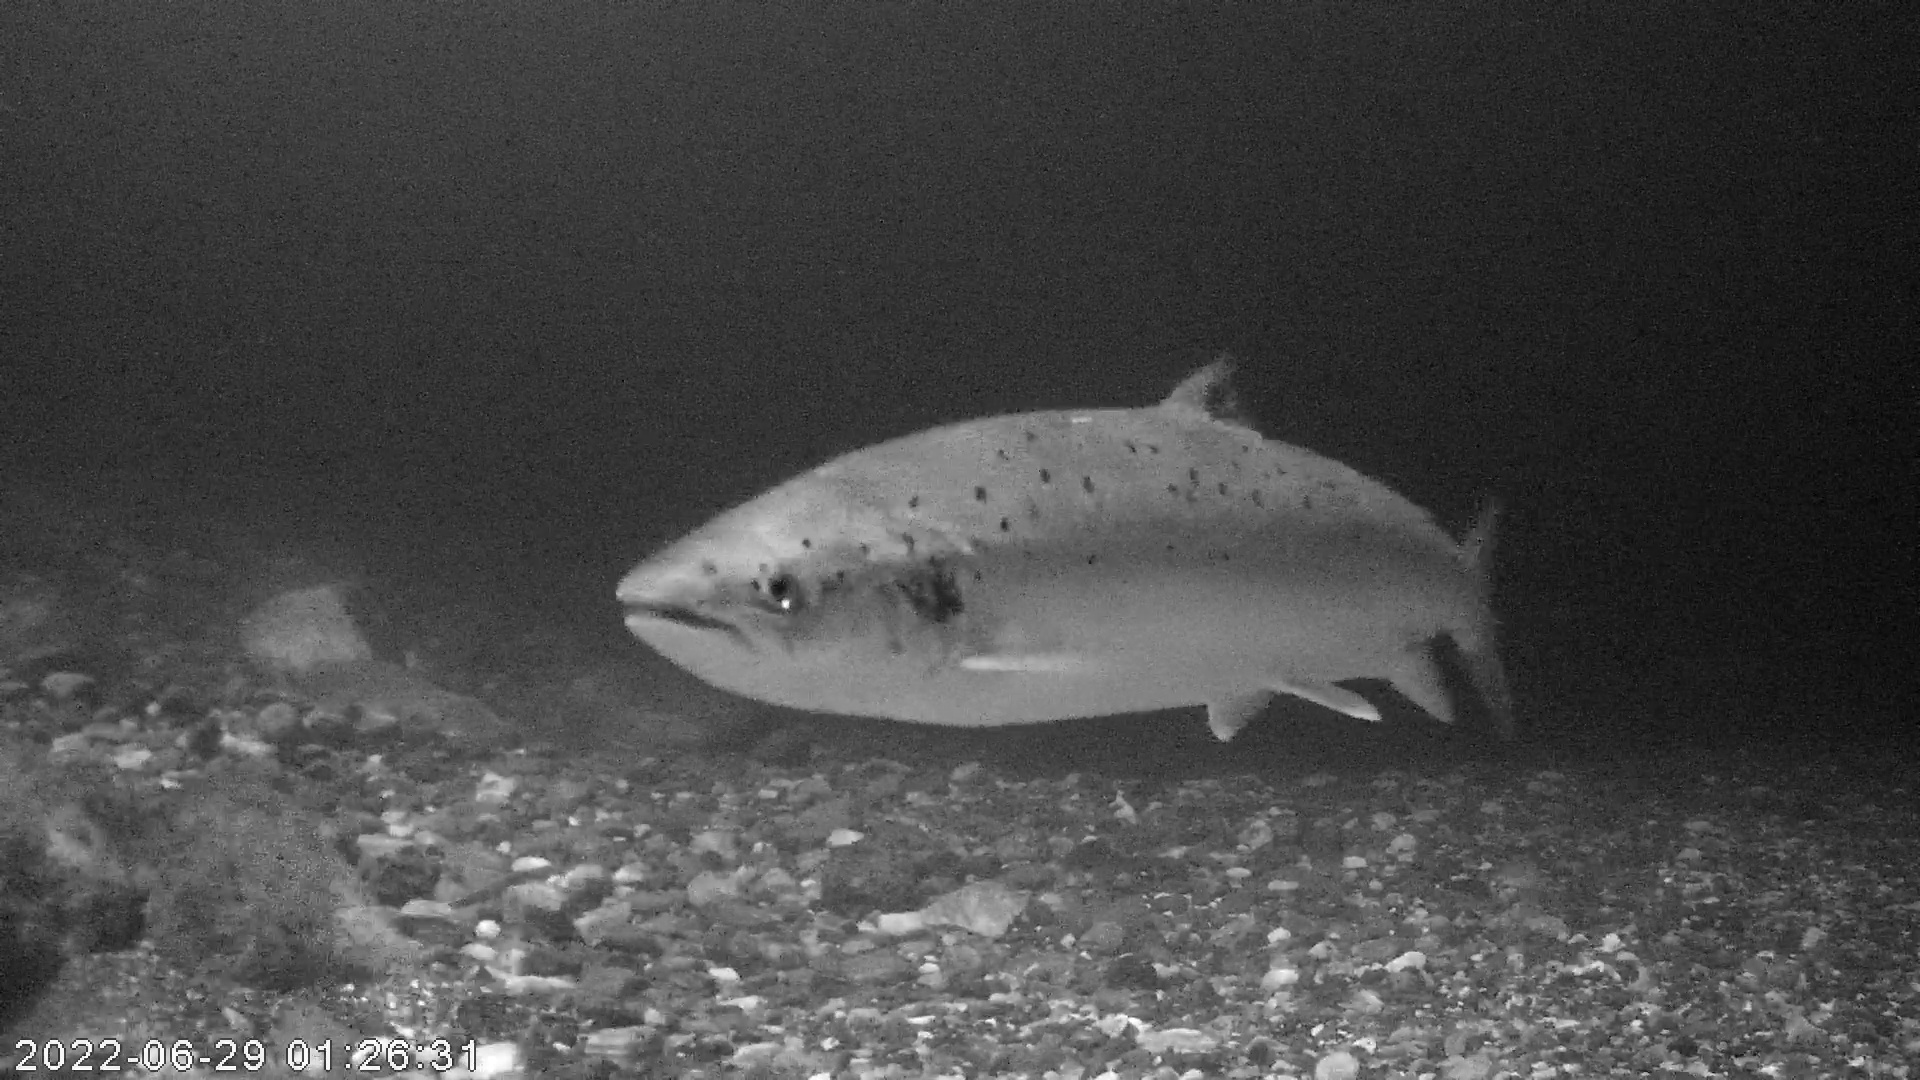salmon: (607, 340, 1520, 746)
